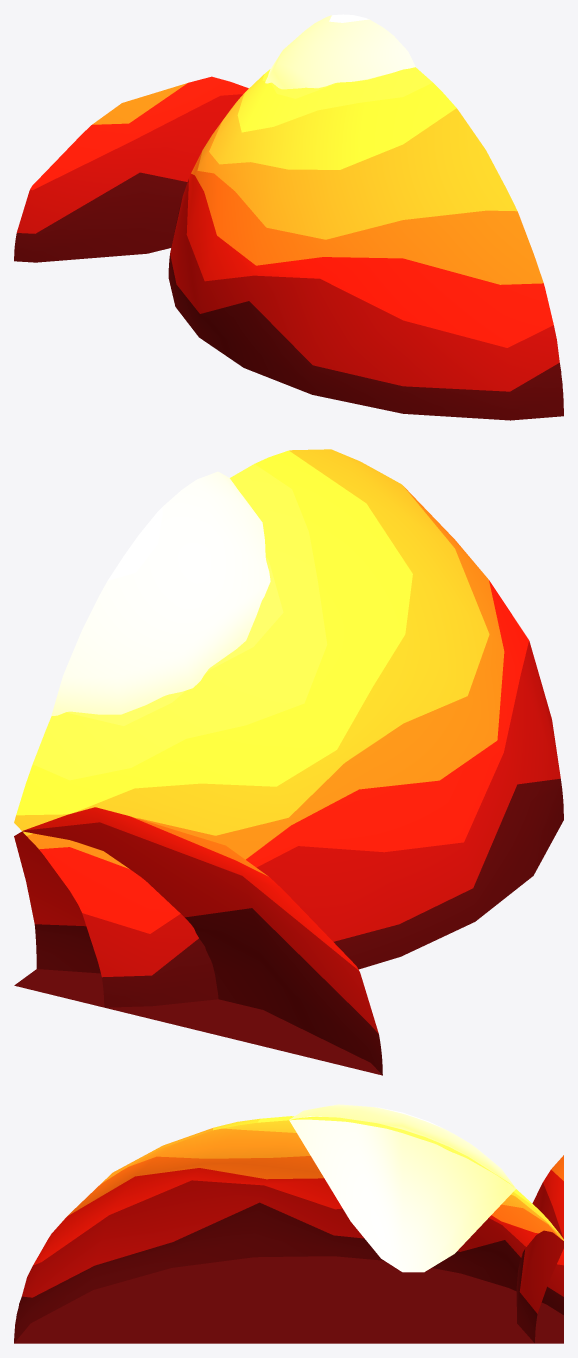
File: shot_charge_b228.glb
The picture shows the model from 3 angles, top to bottom: view 1: azimuth 30°, elevation 25°; view 2: azimuth 150°, elevation 25°; view 3: azimuth 270°, elevation 25°; orthographic projection. The views are drawn at different scales.
Visible parts, largest first — view 1: charge_twin7_a_fire_shot_charge_b228, charge_twin7_b_fire_shot_charge_b228, charge_twin7_a_core_shot_charge_b228; view 2: charge_twin7_a_fire_shot_charge_b228, charge_twin7_b_fire_shot_charge_b228, charge_twin7_a_core_shot_charge_b228; view 3: charge_twin7_a_fire_shot_charge_b228, charge_twin7_a_core_shot_charge_b228, charge_twin7_b_fire_shot_charge_b228.
Part boxes in pixels (box(x1,y1,x2,y2)): charge_twin7_a_fire_shot_charge_b228: box(168, 67, 563, 420); charge_twin7_b_fire_shot_charge_b228: box(14, 76, 248, 262); charge_twin7_a_core_shot_charge_b228: box(265, 14, 415, 89); charge_twin7_a_fire_shot_charge_b228: box(14, 449, 563, 1007); charge_twin7_b_fire_shot_charge_b228: box(14, 807, 382, 1075); charge_twin7_a_core_shot_charge_b228: box(51, 471, 270, 715); charge_twin7_a_fire_shot_charge_b228: box(14, 1116, 563, 1343); charge_twin7_a_core_shot_charge_b228: box(289, 1104, 515, 1272); charge_twin7_b_fire_shot_charge_b228: box(516, 1155, 563, 1343).
Size of the model in its own units: 5.22 by 5.05 by 10.57.
